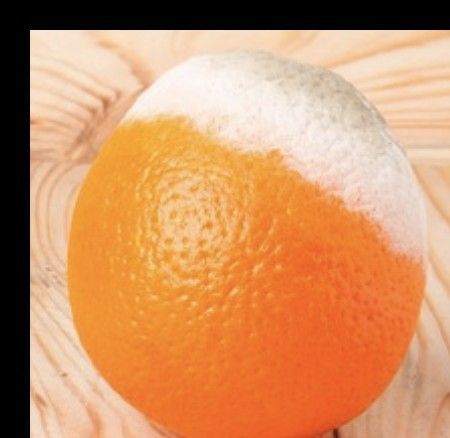rotten_orange: (68, 53, 430, 438)
